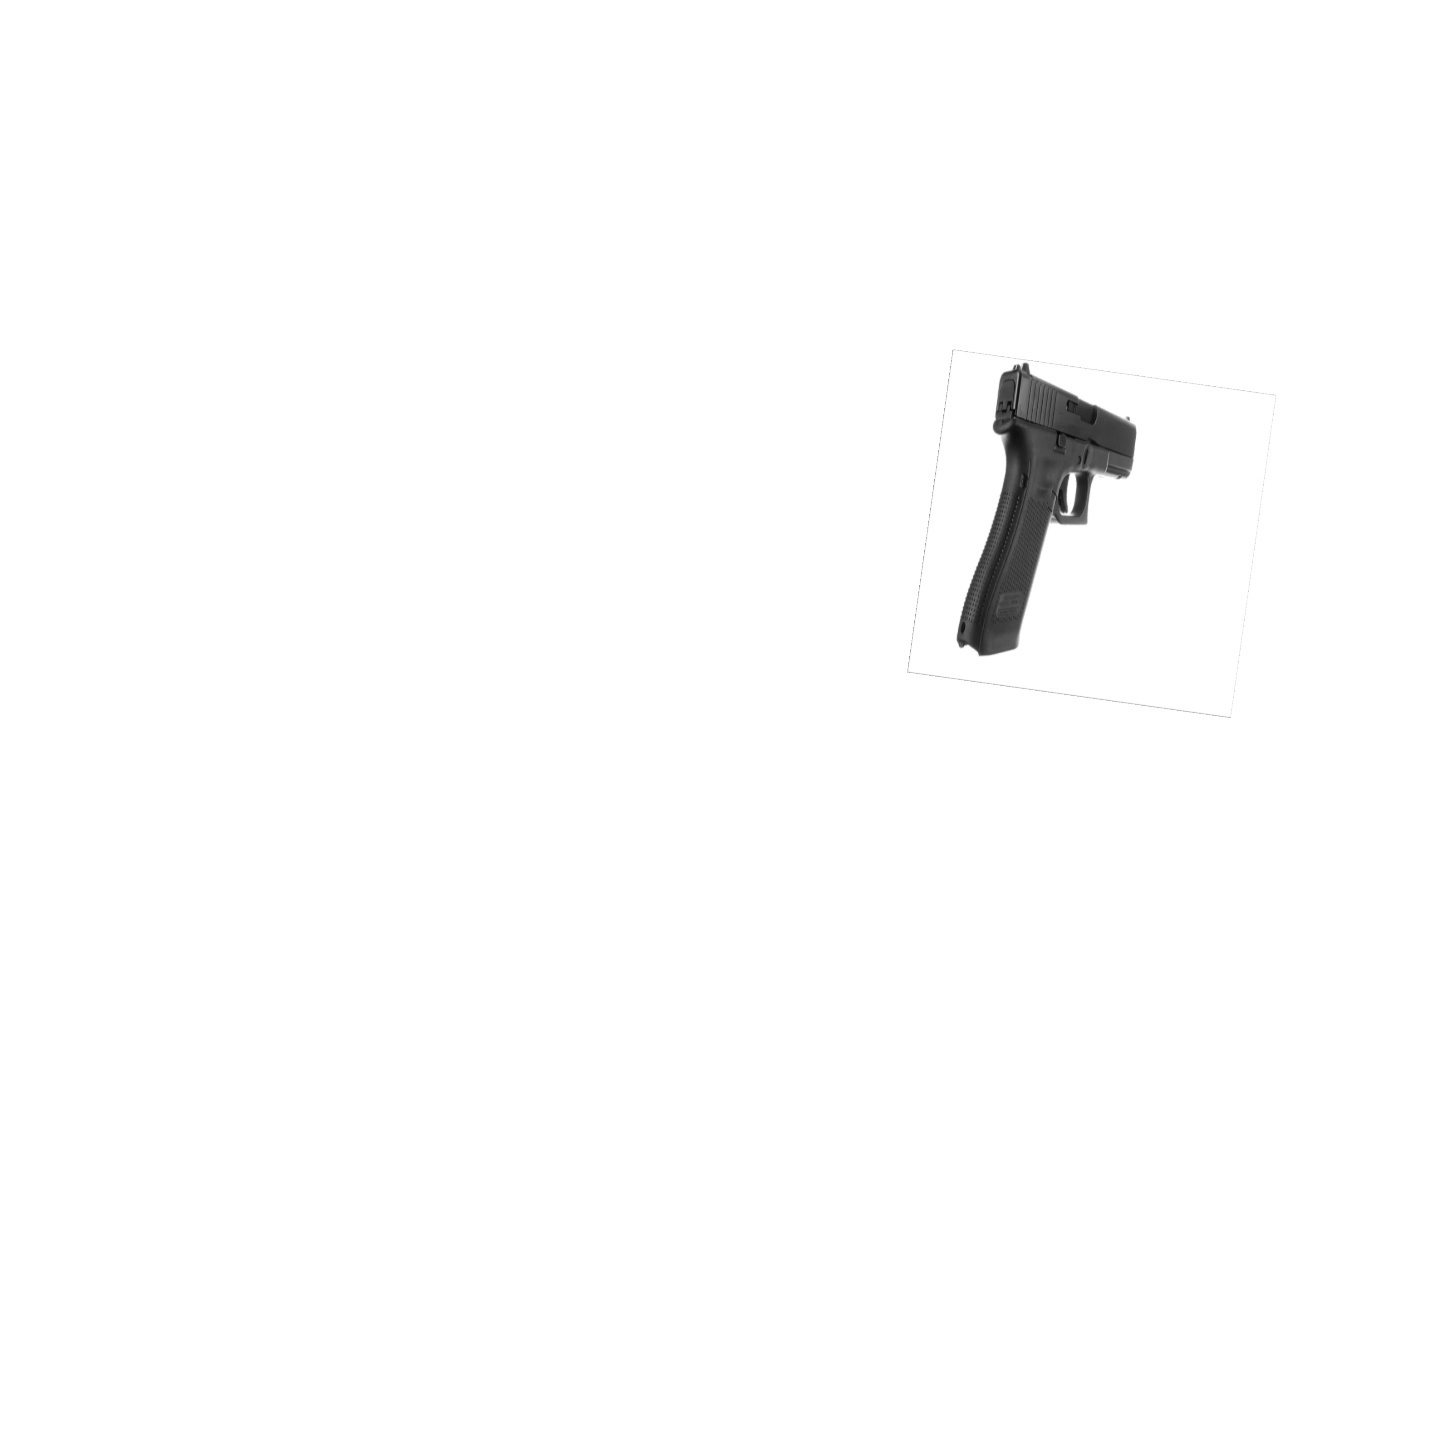gun: (963, 363, 1136, 658)
